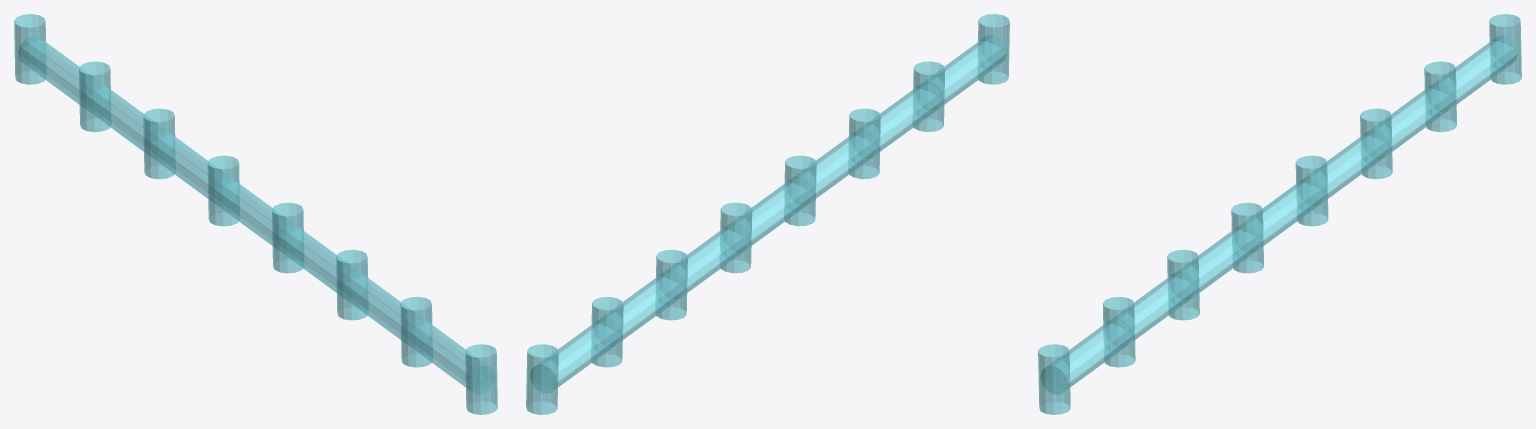
The model's file is pembatas jalan es batu.fbx.
The picture shows the model from 3 angles, left to right: view 1: azimuth 30°, elevation 25°; view 2: azimuth 150°, elevation 25°; view 3: azimuth 330°, elevation 25°; orthographic projection.
Parts seen in each view (by area): view 1: Cylinder.004; view 2: Cylinder.004; view 3: Cylinder.004.
Boxes of the visible parts, x1,y1,x2,y2 form: Cylinder.004: (14,14,497,414); Cylinder.004: (526,14,1009,414); Cylinder.004: (1038,14,1521,414).
Size of the model in its own units: 72.81 by 142 by 2066.
